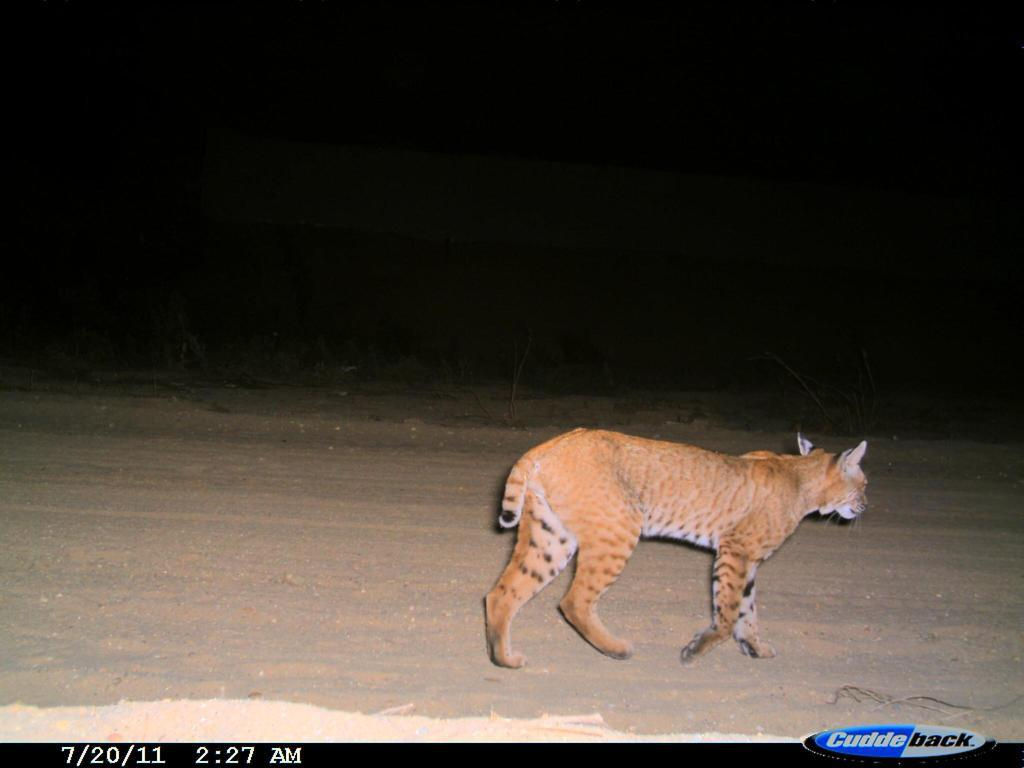bobcat: (463, 396, 877, 681)
